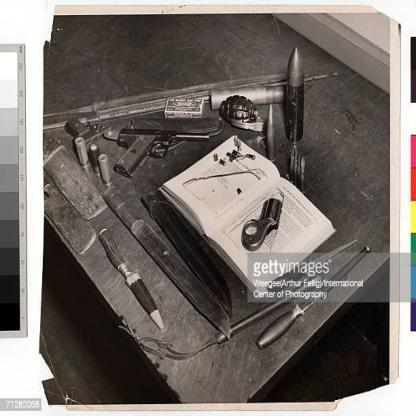Grenade: (220, 96, 267, 132)
Knife: (102, 180, 231, 340), (99, 228, 165, 331)
Pistol: (114, 127, 211, 180)
